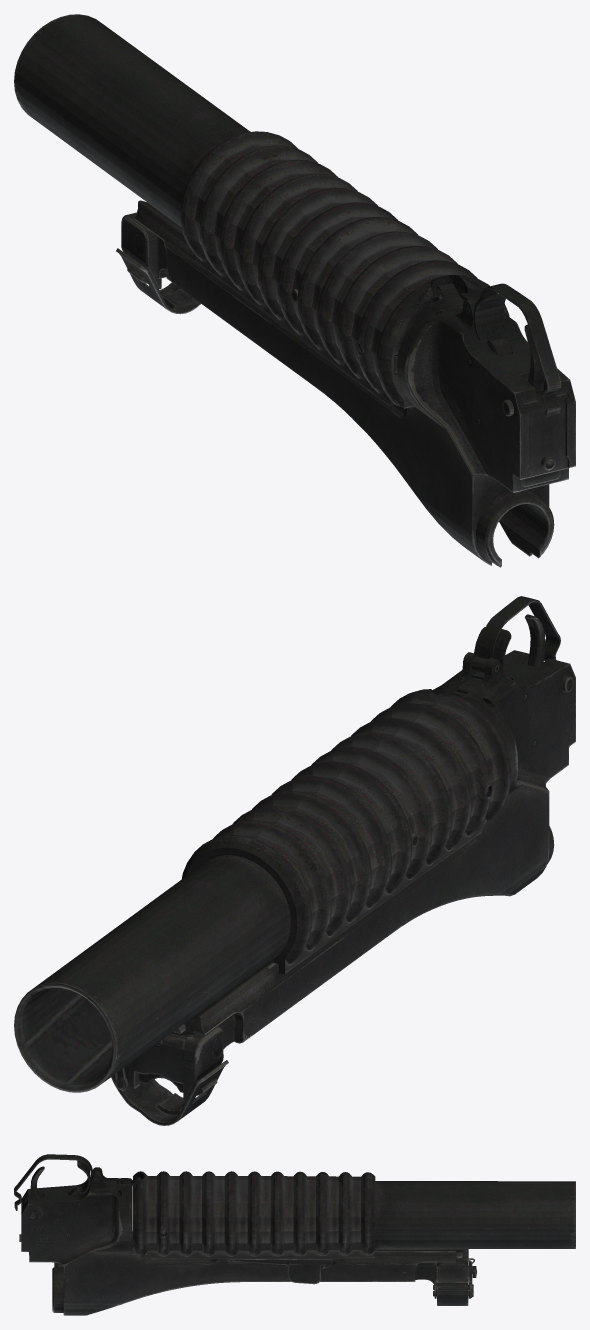
3 renders of one model, top to bottom at view 1: azimuth 30°, elevation 25°; view 2: azimuth 150°, elevation 25°; view 3: azimuth 270°, elevation 25°, orthographic. The views are drawn at different scales.
Visible parts, largest first — view 1: TW_6357c98711fb55120211f7e1_PZ_Import; view 2: TW_6357c98711fb55120211f7e1_PZ_Import; view 3: TW_6357c98711fb55120211f7e1_PZ_Import.
Boxes of the visible parts, x1,y1,x2,y2 form: TW_6357c98711fb55120211f7e1_PZ_Import: (14, 14, 575, 567); TW_6357c98711fb55120211f7e1_PZ_Import: (14, 596, 575, 1125); TW_6357c98711fb55120211f7e1_PZ_Import: (14, 1154, 575, 1315).
Bounding box in the file's own units: 0.0335 × 0.2157 × 0.0653.
1 material, 1 textured.
